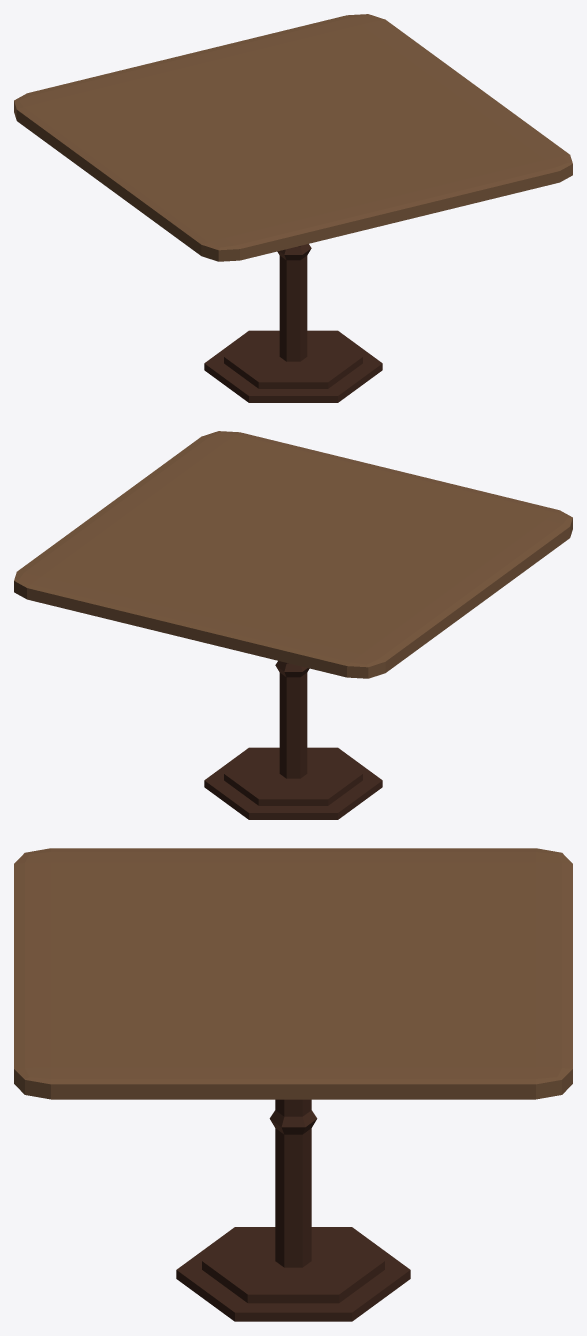
Rendered from Table_03.glb.
The picture shows the model from 3 angles, top to bottom: view 1: azimuth 30°, elevation 25°; view 2: azimuth 150°, elevation 25°; view 3: azimuth 270°, elevation 25°; orthographic projection. The views are drawn at different scales.
Parts seen in each view (by area): view 1: Table_03; view 2: Table_03; view 3: Table_03.
Boxes of the visible parts, box(x1,y1,x2,y2) form: Table_03: box(14, 14, 572, 402); Table_03: box(14, 431, 572, 819); Table_03: box(14, 848, 572, 1321).
Size of what is drawn, in the model's own units: 1.72 by 1.07 by 1.72.
Materials: 1 (1 with a texture image).
